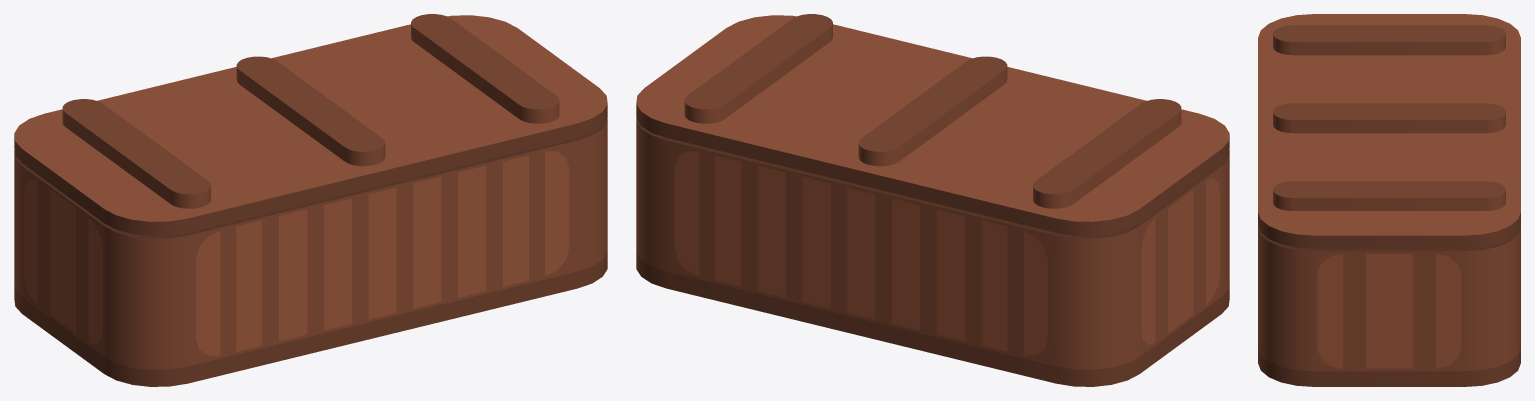
File: Wood Box B.fbx
The picture shows the model from 3 angles, left to right: view 1: azimuth 30°, elevation 25°; view 2: azimuth 150°, elevation 25°; view 3: azimuth 270°, elevation 25°; orthographic projection. The views are drawn at different scales.
Parts seen in each view (by area): view 1: Wood Box, Wood Box.001; view 2: Wood Box, Wood Box.001; view 3: Wood Box.001, Wood Box.
Part boxes in pixels (x1,y1,x2,y2): Wood Box: (14,119,607,386); Wood Box.001: (14,14,607,236); Wood Box: (636,119,1229,386); Wood Box.001: (636,14,1229,236); Wood Box.001: (1258,14,1520,248); Wood Box: (1258,225,1520,386).
Bounding box in the file's own units: 2.43 × 0.8409 × 1.22.
